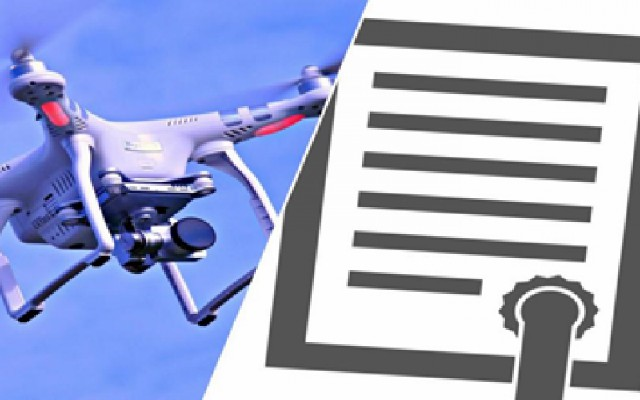maybay_khongnguoilai: (2, 26, 313, 329)
